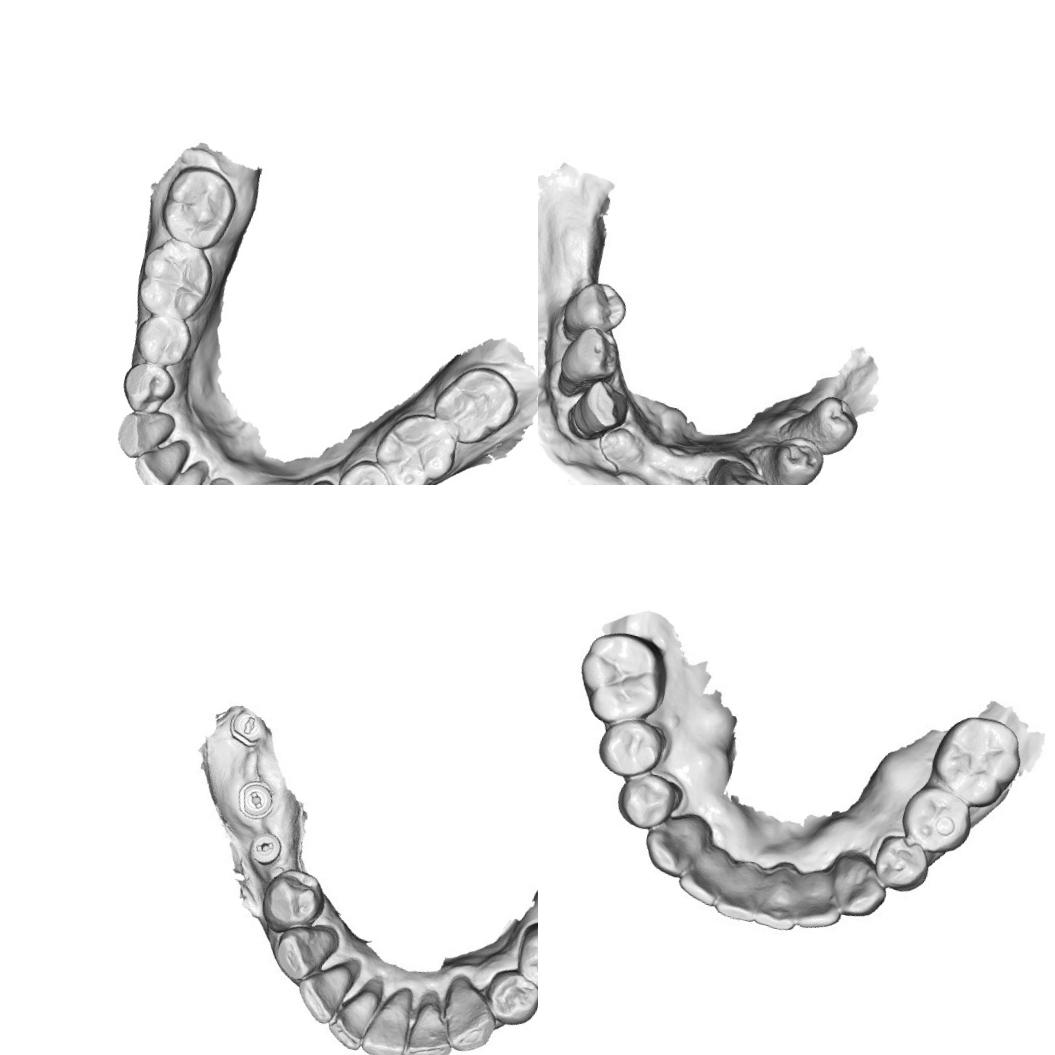canine: (268, 914, 342, 991), (434, 977, 504, 1055), (641, 810, 711, 882), (568, 376, 634, 442), (112, 401, 178, 466), (829, 850, 890, 920), (701, 456, 778, 485)
implant_minus: (231, 773, 281, 821), (224, 702, 272, 750), (241, 824, 288, 870)
incisor: (290, 955, 358, 1029), (675, 835, 740, 911), (322, 979, 382, 1055), (717, 846, 776, 921), (790, 868, 847, 937), (357, 992, 418, 1055), (127, 430, 192, 485), (400, 996, 460, 1055), (755, 860, 804, 926), (142, 454, 209, 485), (171, 468, 231, 485)
molar: (570, 627, 673, 731), (928, 710, 1026, 814), (426, 356, 526, 455), (152, 157, 244, 256), (366, 403, 464, 485), (130, 234, 219, 324)
premolar: (902, 785, 976, 856), (257, 864, 328, 936), (555, 320, 625, 389), (597, 716, 667, 784), (796, 390, 864, 456), (562, 274, 631, 338), (872, 834, 936, 898), (128, 312, 196, 372), (116, 358, 180, 419), (618, 771, 682, 832), (482, 964, 538, 1032), (765, 431, 829, 485), (509, 918, 538, 999), (329, 453, 399, 485), (288, 472, 352, 485)
